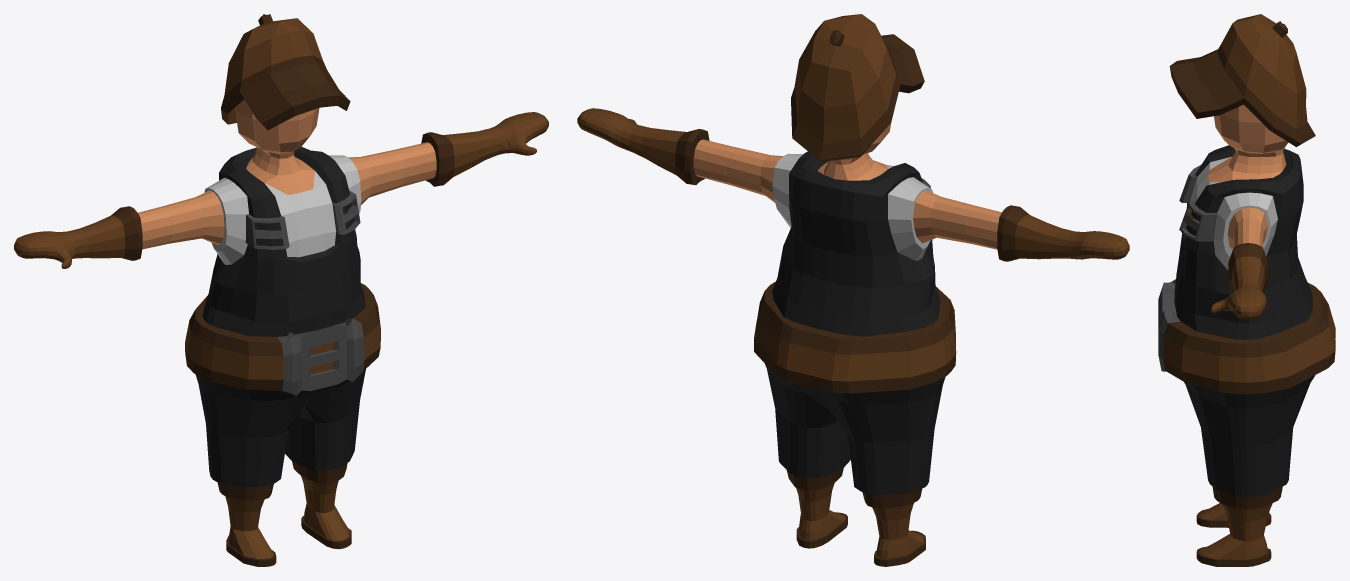
File: CHIBI BLACKSMITH.fbx
3 views of the same model, side by side, from view 1: azimuth 30°, elevation 25°; view 2: azimuth 150°, elevation 25°; view 3: azimuth 270°, elevation 25° (orthographic). The views are drawn at different scales.
Visible parts, largest first — view 1: blacksmith-mini; view 2: blacksmith-mini; view 3: blacksmith-mini.
Boxes of the visible parts, bbox=[...] form: blacksmith-mini: bbox=[14, 14, 548, 566]; blacksmith-mini: bbox=[577, 14, 1129, 566]; blacksmith-mini: bbox=[1158, 14, 1335, 566].
Bounding box in the file's own units: 2.35 × 2.19 × 0.6731.
